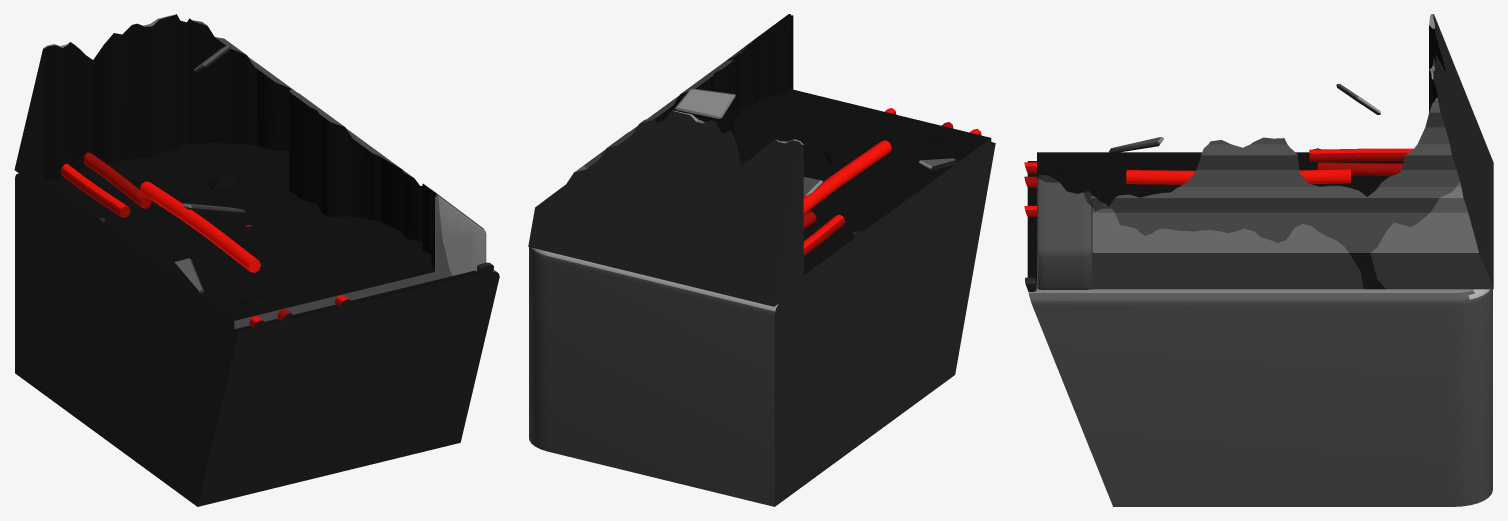
File: cargo_pod_mr_wreck.glb
3 renders of one model, left to right at view 1: azimuth 30°, elevation 25°; view 2: azimuth 150°, elevation 25°; view 3: azimuth 270°, elevation 25°, orthographic. The views are drawn at different scales.
Visible parts, largest first — view 1: cargo_pod_mr_wreck; view 2: cargo_pod_mr_wreck; view 3: cargo_pod_mr_wreck.
Part boxes in pixels (box(x1,y1,x2,y2)): cargo_pod_mr_wreck: box(14, 14, 499, 506); cargo_pod_mr_wreck: box(528, 14, 995, 506); cargo_pod_mr_wreck: box(1024, 14, 1493, 506).
Bounding box in the file's own units: 19 × 24 × 28.25.
